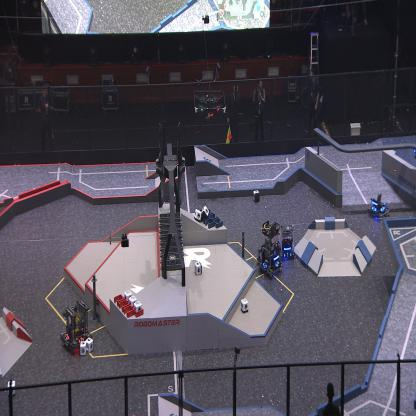car: (60, 299, 92, 355), (256, 217, 282, 278), (276, 222, 297, 262), (369, 192, 390, 220)
